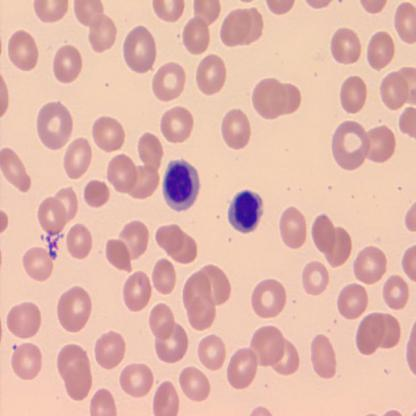NRC: (160, 156, 202, 214), (226, 187, 266, 235)
